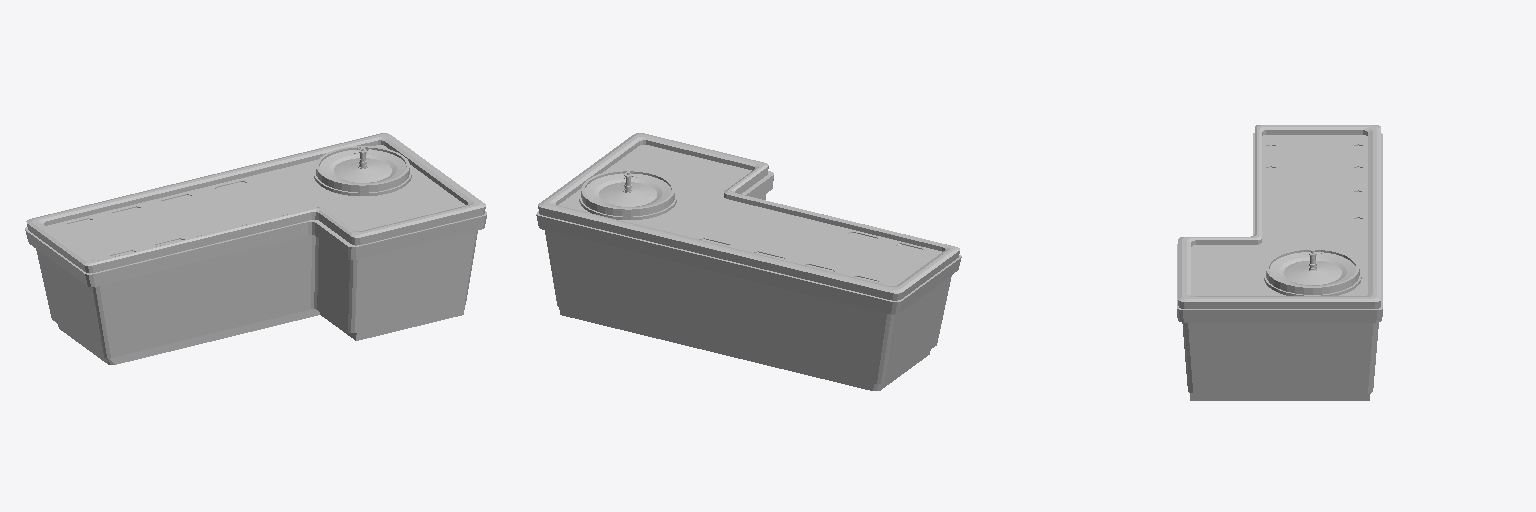
Rendered from RouletteWheel.obj.
3 renders of one model, left to right at view 1: azimuth 30°, elevation 25°; view 2: azimuth 150°, elevation 25°; view 3: azimuth 270°, elevation 25°, orthographic.
Parts seen in each view (by area): view 1: Cube.001; view 2: Cube.001; view 3: Cube.001.
Part boxes in pixels (bbox=[...]): Cube.001: bbox=[25, 133, 486, 364]; Cube.001: bbox=[536, 133, 961, 390]; Cube.001: bbox=[1177, 125, 1382, 400].
Bounding box in the file's own units: 3.33 × 1.15 × 1.64.